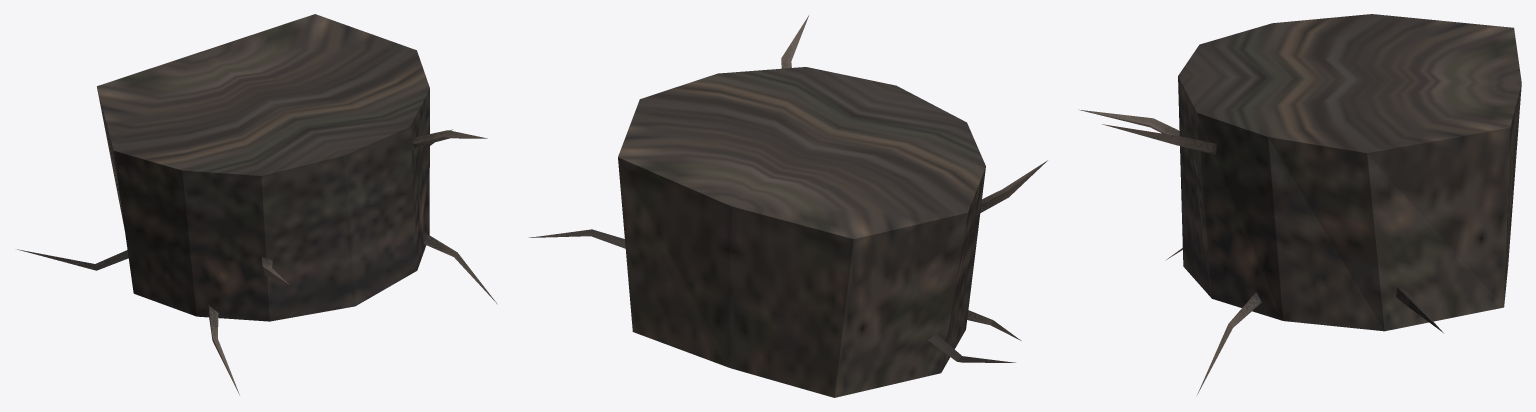
The model's file is trompa9.obj.
3 renders of one model, left to right at view 1: azimuth 30°, elevation 25°; view 2: azimuth 150°, elevation 25°; view 3: azimuth 270°, elevation 25°, orthographic. The views are drawn at different scales.
Visible parts, largest first — view 1: pasted__polySurface79 group; view 2: pasted__polySurface79 group; view 3: pasted__polySurface79 group.
Part boxes in pixels (x1=…): pasted__polySurface79 group: x1=17, y1=14, x2=497, y2=395; pasted__polySurface79 group: x1=529, y1=15, x2=1047, y2=397; pasted__polySurface79 group: x1=1078, y1=14, x2=1521, y2=394.
Size of the model in its own units: 1.39 by 0.6743 by 1.03.
1 material, 1 textured.
